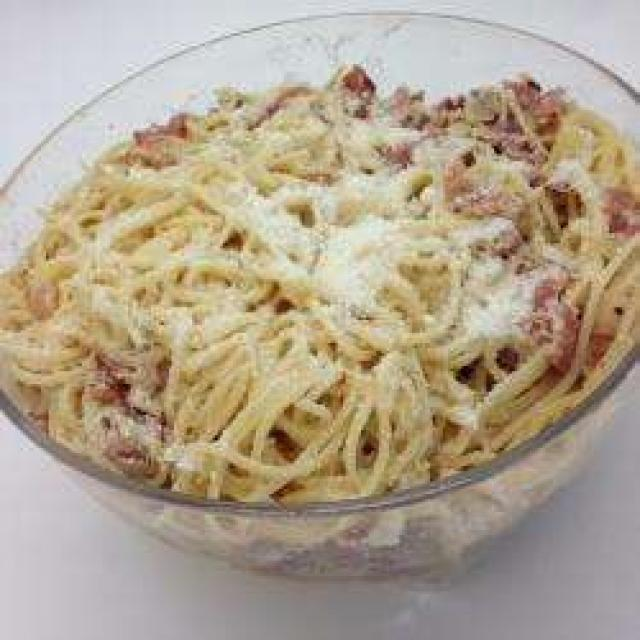Pasta with carbonara sauce: (18, 39, 640, 581)
